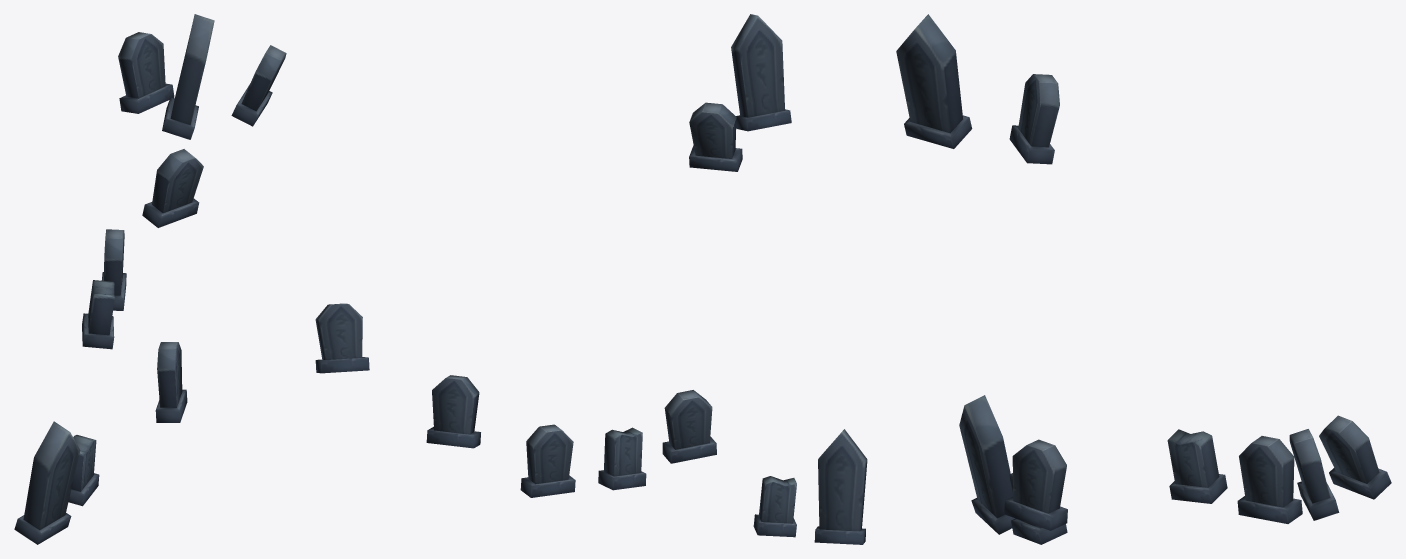
The model's file is Area_02_17.fbx.
3 views of the same model, side by side, from view 1: azimuth 30°, elevation 25°; view 2: azimuth 150°, elevation 25°; view 3: azimuth 270°, elevation 25° (orthographic). The views are drawn at different scales.
Parts seen in each view (by area): view 1: Area_02_17; view 2: Area_02_17; view 3: Area_02_17.
Boxes of the visible parts, x1,y1,x2,y2 form: Area_02_17: [14, 14, 286, 544]; Area_02_17: [315, 14, 867, 544]; Area_02_17: [896, 14, 1391, 544].
Bounding box in the file's own units: 2829 × 3242 × 2541.
